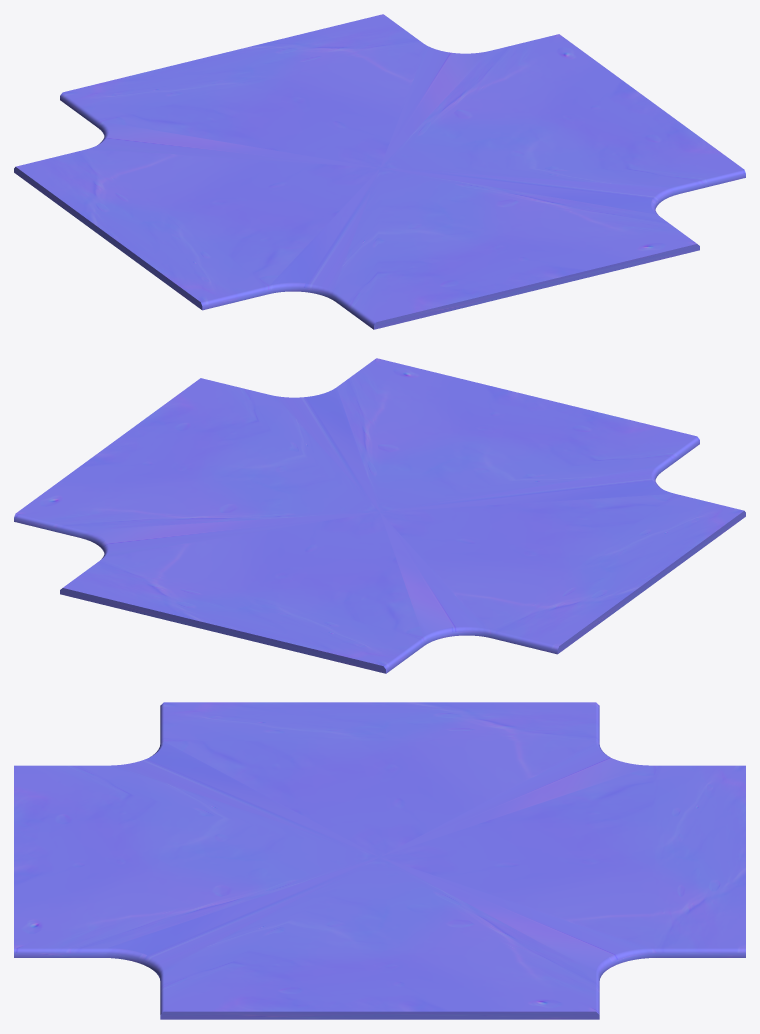
File: sm_road_xroads_02.fbx
3 views of the same model, one above another, from view 1: azimuth 30°, elevation 25°; view 2: azimuth 150°, elevation 25°; view 3: azimuth 270°, elevation 25° (orthographic). The views are drawn at different scales.
Parts seen in each view (by area): view 1: sm_road_xroads_02; view 2: sm_road_xroads_02; view 3: sm_road_xroads_02.
Part boxes in pixels (x1,y1,x2,y2): sm_road_xroads_02: (14,14,745,329); sm_road_xroads_02: (14,358,745,673); sm_road_xroads_02: (14,702,745,1019).
Bounding box in the file's own units: 2000 × 24.87 × 2000.
